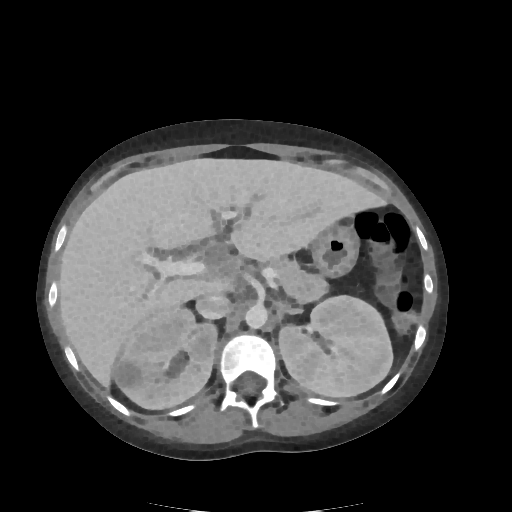Lesion: (107, 354, 146, 390)
